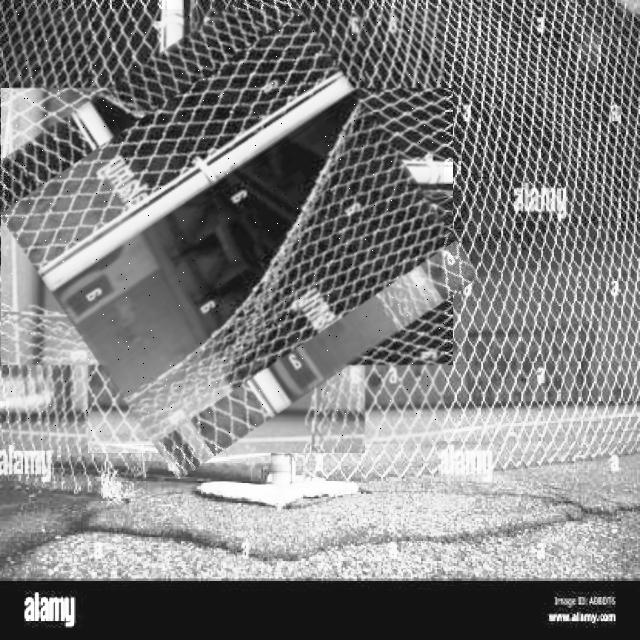anomaly-fence: (9, 9, 444, 444)
